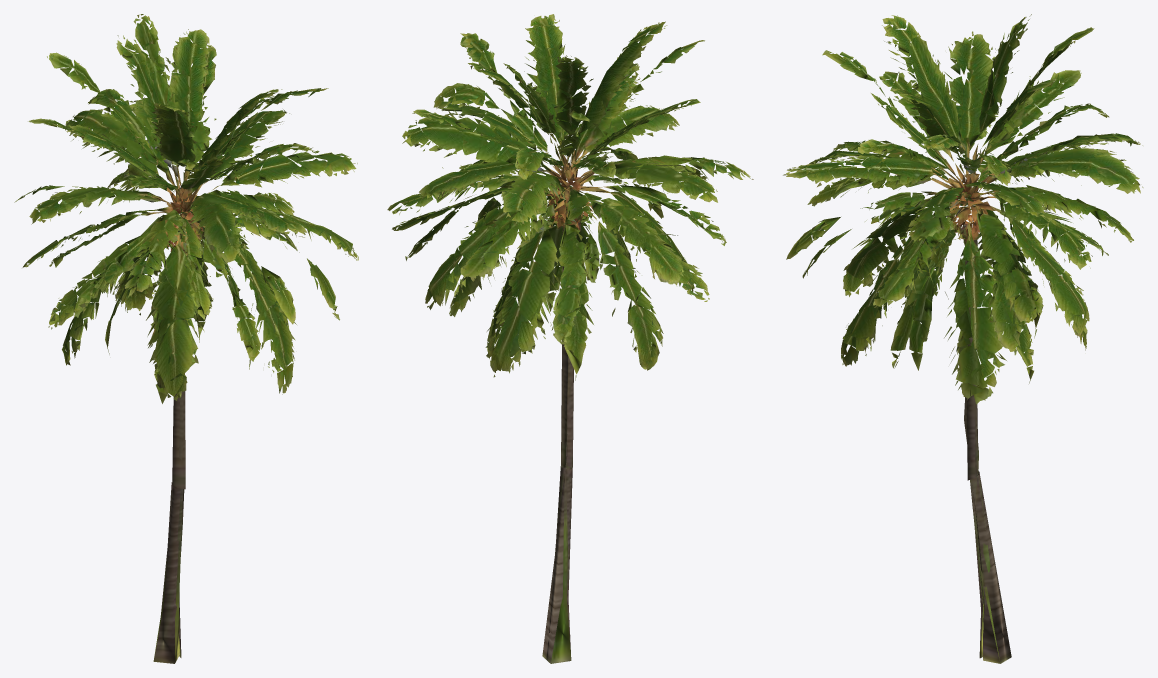
File: palm_b.glb
The picture shows the model from 3 angles, left to right: view 1: azimuth 30°, elevation 25°; view 2: azimuth 150°, elevation 25°; view 3: azimuth 270°, elevation 25°; orthographic projection.
Visible parts, largest first — view 1: Mesh_0; view 2: Mesh_0; view 3: Mesh_0.
Part boxes in pixels (left/top/right/bottom): Mesh_0: left=14, top=14, right=358, bottom=663; Mesh_0: left=387, top=14, right=753, bottom=663; Mesh_0: left=783, top=14, right=1143, bottom=663.
Size of the model in its own units: 0.9656 by 1.89 by 0.9879.
1 material, 1 textured.
